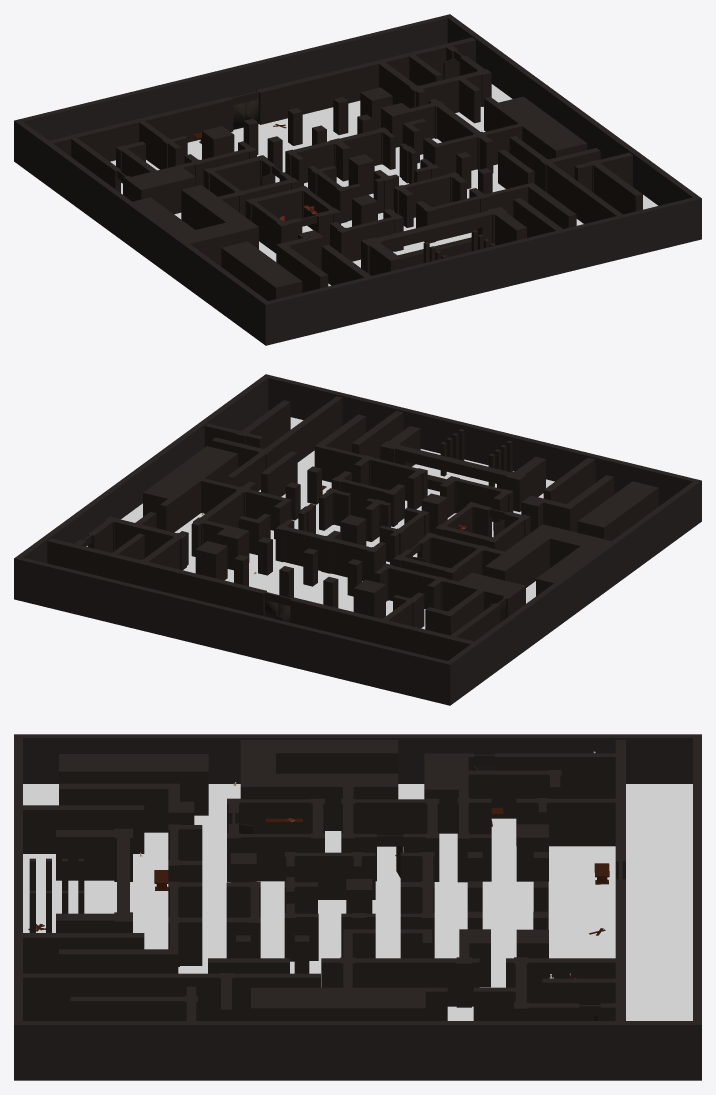
The model's file is mapss.fbx.
The picture shows the model from 3 angles, top to bottom: view 1: azimuth 30°, elevation 25°; view 2: azimuth 150°, elevation 25°; view 3: azimuth 270°, elevation 25°; orthographic projection. The views are drawn at different scales.
Visible parts, largest first — view 1: Plane.001; view 2: Plane.001; view 3: Plane.001.
Part boxes in pixels (left/top/right/bottom): Plane.001: left=14, top=14, right=701, bottom=345; Plane.001: left=14, top=374, right=701, bottom=705; Plane.001: left=14, top=734, right=701, bottom=1080.
Size of the model in its own units: 3656 by 328 by 3656.
Materials: 9 (1 with a texture image).
